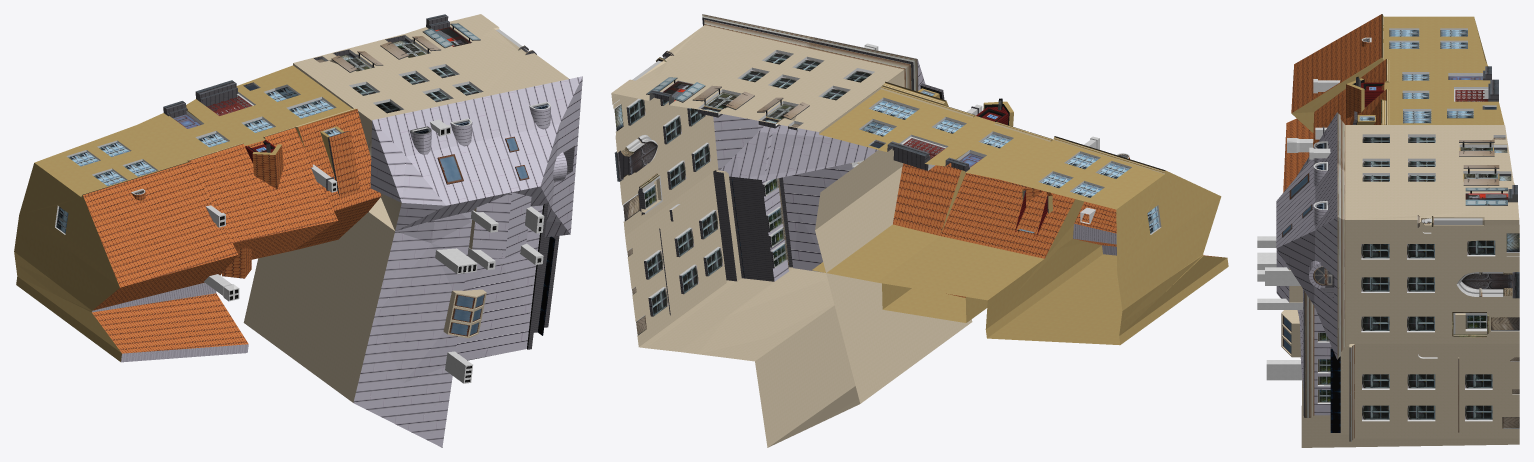
File: Ryytli_2.obj
3 renders of one model, left to right at view 1: azimuth 30°, elevation 25°; view 2: azimuth 150°, elevation 25°; view 3: azimuth 270°, elevation 25°, orthographic. The views are drawn at different scales.
Parts seen in each view (by area): view 1: Ryytli_2; view 2: Ryytli_2; view 3: Ryytli_2.
Part boxes in pixels (x1=…): Ryytli_2: x1=14, y1=14, x2=582, y2=447; Ryytli_2: x1=611, y1=14, x2=1228, y2=447; Ryytli_2: x1=1257, y1=14, x2=1519, y2=447.
Bounding box in the file's own units: 37.7 × 23.98 × 18.27.
